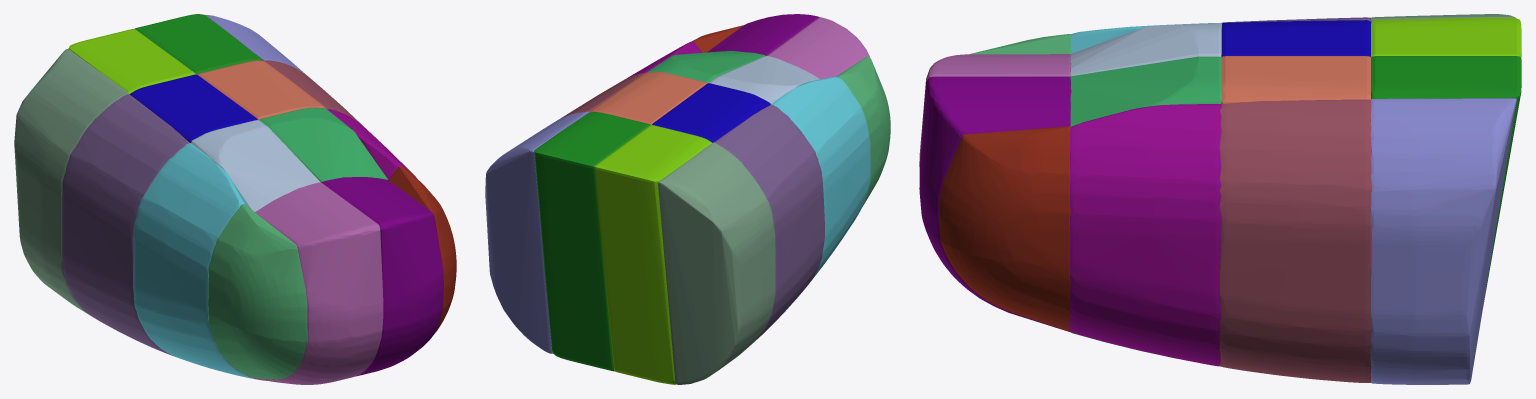
File: f_distal_pst_split.obj
3 renders of one model, left to right at view 1: azimuth 30°, elevation 25°; view 2: azimuth 150°, elevation 25°; view 3: azimuth 270°, elevation 25°, orthographic. The views are drawn at different scales.
Visible parts, largest first — view 1: geometry_1, geometry_2, geometry_7, geometry_3, geometry_0, geometry_11, geometry_6, geometry_10, geometry_5, geometry_4, geometry_8, geometry_9 (+4 smaller); view 2: geometry_0, geometry_4, geometry_8, geometry_1, geometry_12, geometry_2, geometry_5, geometry_7, geometry_9, geometry_3, geometry_6, geometry_11 (+4 smaller); view 3: geometry_13, geometry_14, geometry_12, geometry_15, geometry_11, geometry_10, geometry_8, geometry_9, geometry_4, geometry_5, geometry_6, geometry_7 (+3 smaller).
Boxes of the visible parts, x1,y1,x2,y2 form: geometry_1: (62,94,189,356); geometry_2: (133,143,250,377); geometry_7: (254,182,383,384); geometry_3: (208,204,307,379); geometry_0: (14,48,128,317); geometry_11: (321,177,443,376); geometry_6: (191,120,320,380); geometry_10: (259,107,387,182); geometry_5: (129,74,257,142); geometry_4: (68,29,195,93); geometry_8: (134,14,262,74); geometry_9: (197,60,325,119); geometry_0: (658,142,775,384); geometry_4: (594,125,712,384); geometry_8: (534,112,650,371); geometry_1: (714,104,824,339); geometry_12: (485,111,589,353); geometry_2: (771,76,870,279); geometry_5: (652,83,770,142); geometry_7: (767,17,869,79); geometry_9: (591,72,708,124); geometry_3: (836,56,890,206); geometry_6: (709,56,819,103); geometry_11: (707,14,819,55); geometry_13: (1219,99,1372,382); geometry_14: (1069,104,1221,366); geometry_12: (1370,98,1516,384); geometry_15: (939,126,1071,331); geometry_11: (919,76,1071,331); geometry_10: (1070,56,1221,352); geometry_8: (1371,56,1521,307); geometry_9: (1221,56,1370,104); geometry_4: (1371,17,1521,56); geometry_5: (1221,20,1370,56); geometry_6: (1070,23,1221,75); geometry_7: (919,54,1071,166).
Bounding box in the file's own units: 17.4 × 14.6 × 27.45.
